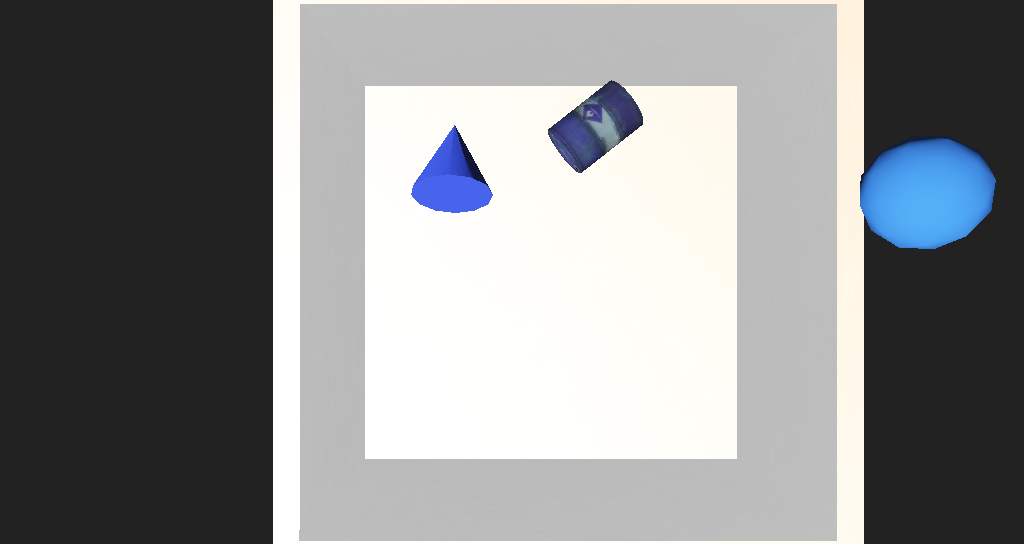cone: (499, 157, 579, 215)
cylinder: (391, 167, 458, 234)
sphere: (724, 198, 812, 260)
